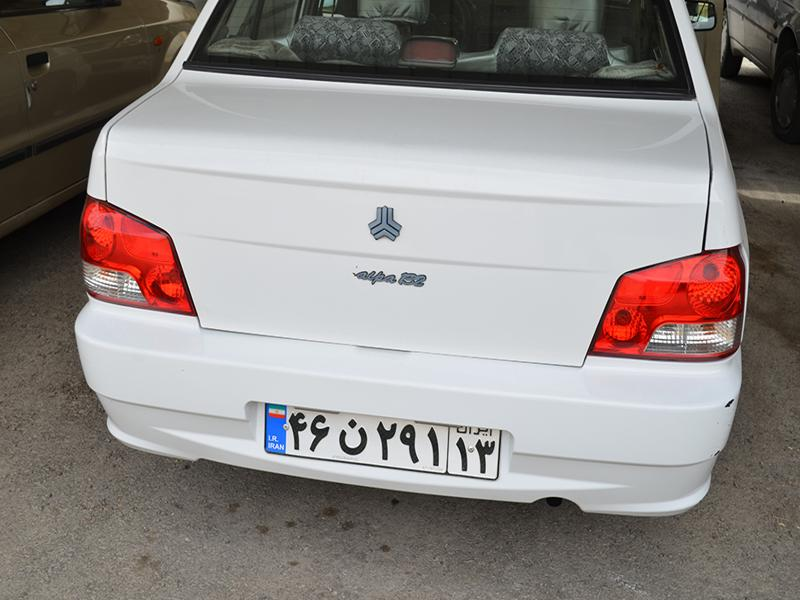Plate: (254, 386, 522, 485)
